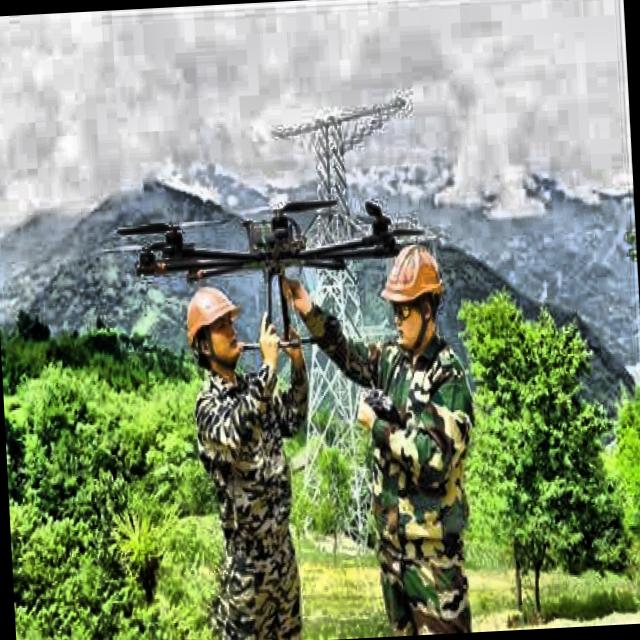helmet: (374, 236, 454, 356), (180, 277, 248, 376)
